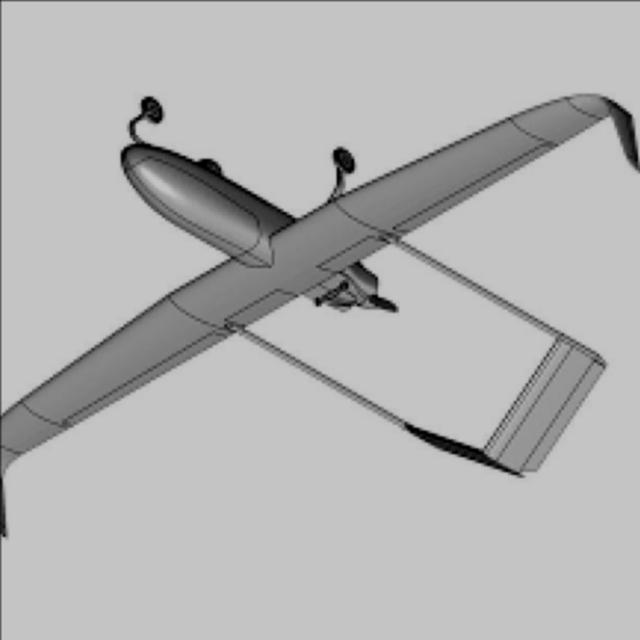plane: (0, 90, 639, 540)
